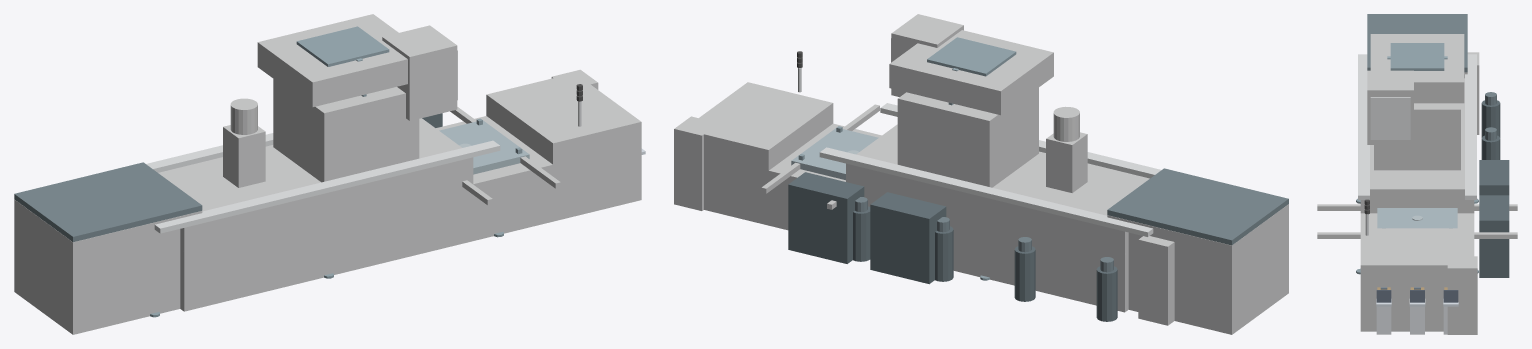
The model's file is EUV.glb.
3 renders of one model, left to right at view 1: azimuth 30°, elevation 25°; view 2: azimuth 150°, elevation 25°; view 3: azimuth 270°, elevation 25°, orthographic. The views are drawn at different scales.
Parts seen in each view (by area): view 1: p00001, p00004, p00037, p00015, p00005, p00026, p00021, p00024, p00106, p00013, p00022, p00027 (+3 smaller); view 2: p00001, p00037, p00004, p00015, p00005, p00021, p00087, p00093, p00107, p00099, p00026, p00100 (+10 smaller); view 3: p00037, p00001, p00015, p00021, p00093, p00005, p00100, p00024, p00025, p00107, p00027, p00106 (+14 smaller).
Part boxes in pixels (x1,y1,x2,y2): p00001: (158,118,473,311); p00004: (14,199,202,334); p00037: (486,73,641,221); p00015: (273,79,419,182); p00005: (14,162,202,242); p00026: (427,116,565,252); p00021: (257,14,407,107); p00024: (382,25,457,120); p00106: (154,140,500,233); p00013: (223,125,265,187); p00022: (296,26,389,66); p00027: (439,120,529,174); p00001: (846,124,1149,312); p00037: (684,82,833,225); p00004: (1107,204,1288,334); p00015: (897,87,1038,187); p00005: (1107,168,1288,245); p00021: (889,30,1053,115); p00087: (870,192,946,284); p00093: (788,172,864,263); p00107: (819,147,1153,236); p00099: (1138,236,1174,325); p00026: (752,123,881,230); p00100: (674,116,703,210); p00037: (1360,228,1474,331); p00001: (1360,78,1474,213); p00015: (1374,103,1460,170); p00021: (1370,34,1464,103); p00093: (1479,195,1509,277); p00005: (1367,14,1467,72); p00100: (1447,256,1477,334); p00024: (1367,70,1413,144); p00025: (1370,97,1410,139); p00107: (1465,54,1476,199); p00027: (1377,208,1457,228); p00106: (1358,54,1369,199).
Size of the model in its own units: 16.99 by 5.5 by 6.
